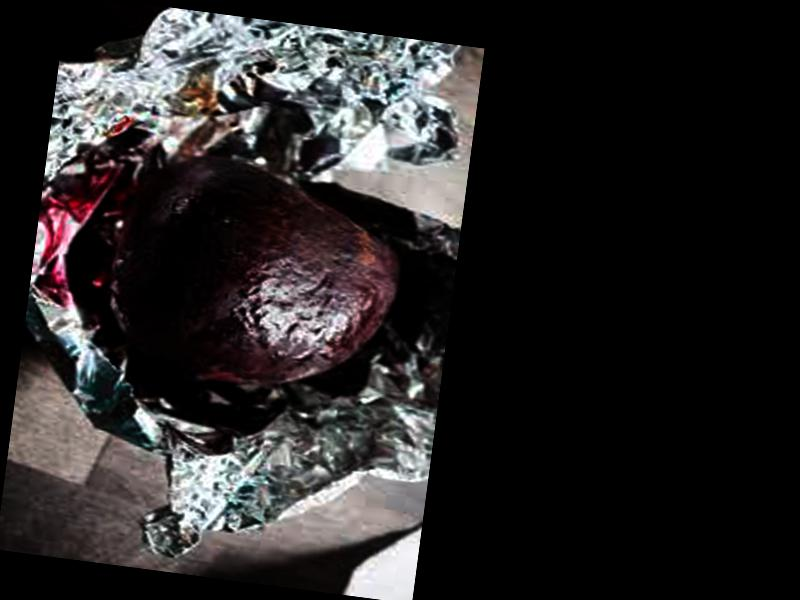Beet: (110, 145, 414, 407)
